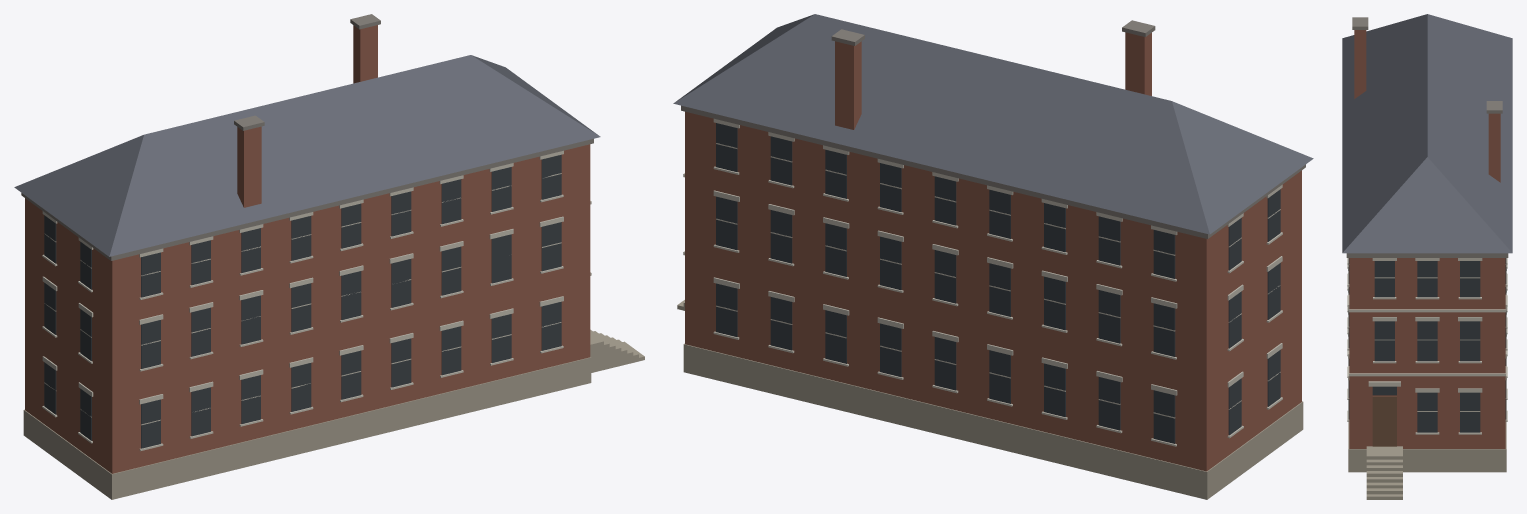
File: house_1819_indiana__draft_1904.glb
3 views of the same model, side by side, from view 1: azimuth 30°, elevation 25°; view 2: azimuth 150°, elevation 25°; view 3: azimuth 270°, elevation 25° (orthographic). The views are drawn at different scales.
Visible parts, largest first — view 1: house_1819_indiana__draft_1904; view 2: house_1819_indiana__draft_1904; view 3: house_1819_indiana__draft_1904.
Boxes of the visible parts, x1,y1,x2,y2 form: house_1819_indiana__draft_1904: [14, 14, 644, 499]; house_1819_indiana__draft_1904: [673, 14, 1313, 499]; house_1819_indiana__draft_1904: [1342, 14, 1512, 499].
Bounding box in the file's own units: 28.15 × 16.58 × 8.45.
